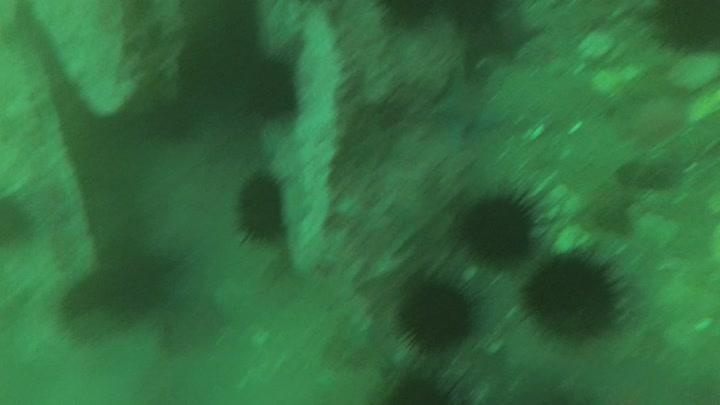urchin: (516, 249, 621, 346), (453, 184, 539, 269), (385, 275, 479, 352), (232, 169, 284, 242), (241, 52, 300, 116), (378, 364, 463, 405)
